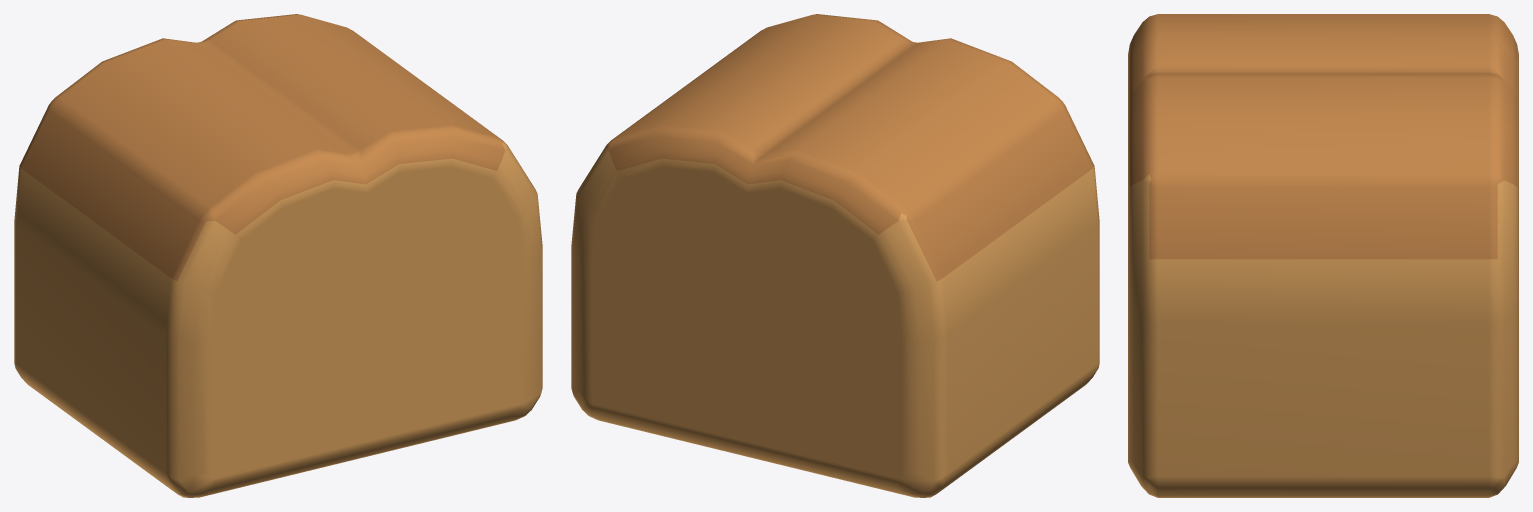
Rendered from bread.glb.
The picture shows the model from 3 angles, left to right: view 1: azimuth 30°, elevation 25°; view 2: azimuth 150°, elevation 25°; view 3: azimuth 270°, elevation 25°; orthographic projection. The views are drawn at different scales.
Parts seen in each view (by area): view 1: bread; view 2: bread; view 3: bread.
Part boxes in pixels (box(x1,y1,x2,y2)): bread: box(14, 14, 542, 497); bread: box(571, 14, 1099, 497); bread: box(1128, 14, 1518, 497).
Size of the model in its own units: 0.506 by 0.41 by 0.414.
